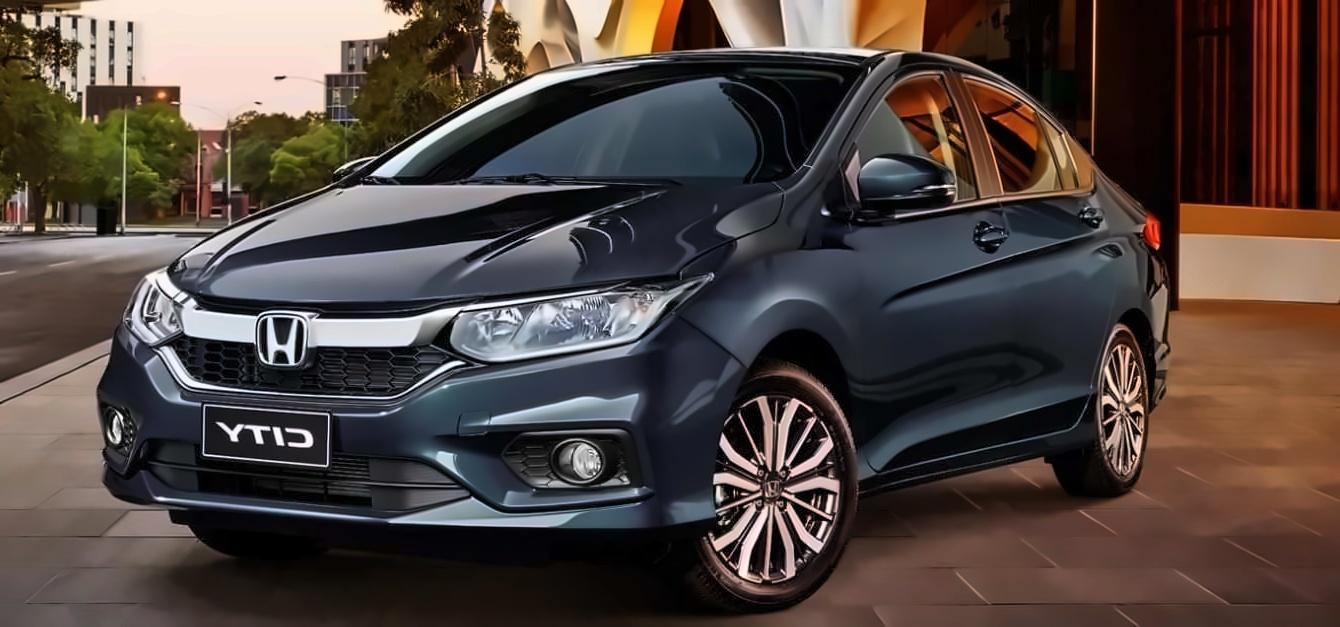Car hood: (162, 178, 789, 316)
Fender - -F-L-: (671, 160, 866, 490)
Fender - -R-L-: (1088, 204, 1160, 444)
Front bumper: (84, 346, 754, 556)
Headlight - -L-: (442, 262, 720, 374)
Headlight - -R-: (108, 254, 205, 362)
Passenger-s door - -F-L-: (862, 56, 1012, 470)
Passenger-s door - -R-L-: (1014, 82, 1132, 448)
Rear bumper: (1141, 296, 1184, 414)
Rear light - -L-: (1134, 190, 1176, 258)
Side bumper - -L-: (844, 380, 1113, 502)
Side mirror - -L-: (848, 144, 965, 233)
